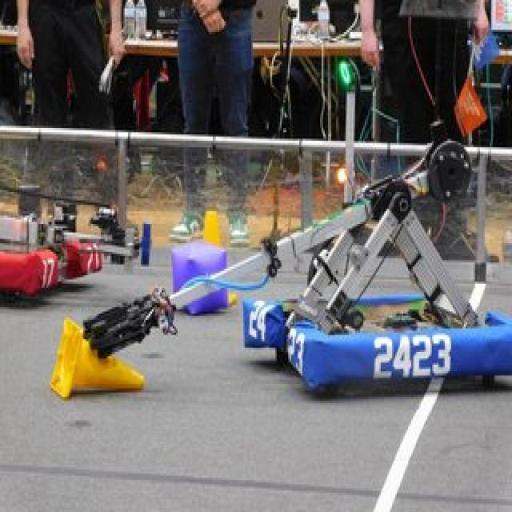robot: (33, 134, 512, 428), (0, 189, 126, 327)
